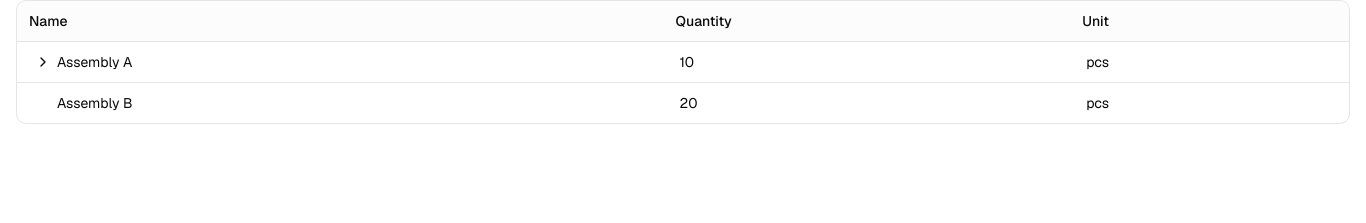
EditableTreeTable › renders tree data with expand/collapse
Expected: the text "Assembly A" is shown, [57, 52, 132, 70]
Expected: the text "Assembly B" is shown, [57, 94, 132, 112]
// Expand the first node
Click the button named "Expand" at (43, 62), box [33, 52, 53, 72]
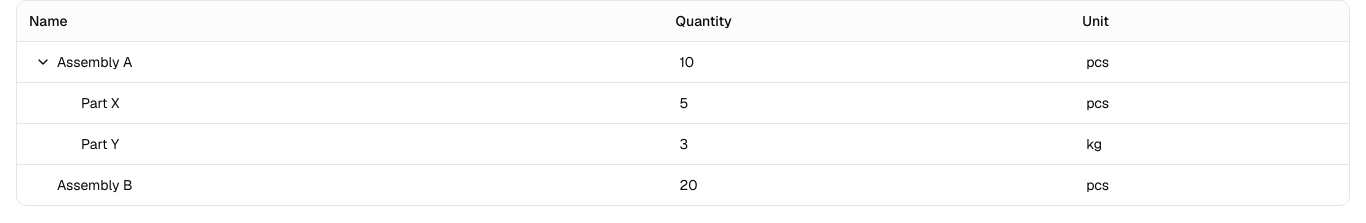
Expected: the text "Part X" is shown, [81, 94, 120, 112]
Expected: the text "Part Y" is shown, [81, 134, 119, 152]
Click the button named "Collapse" at (43, 62), box [33, 52, 53, 72]
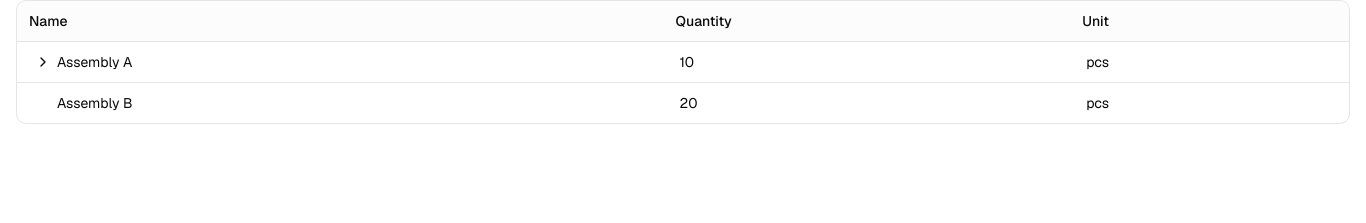
Expected: the text "Part X" is gone
